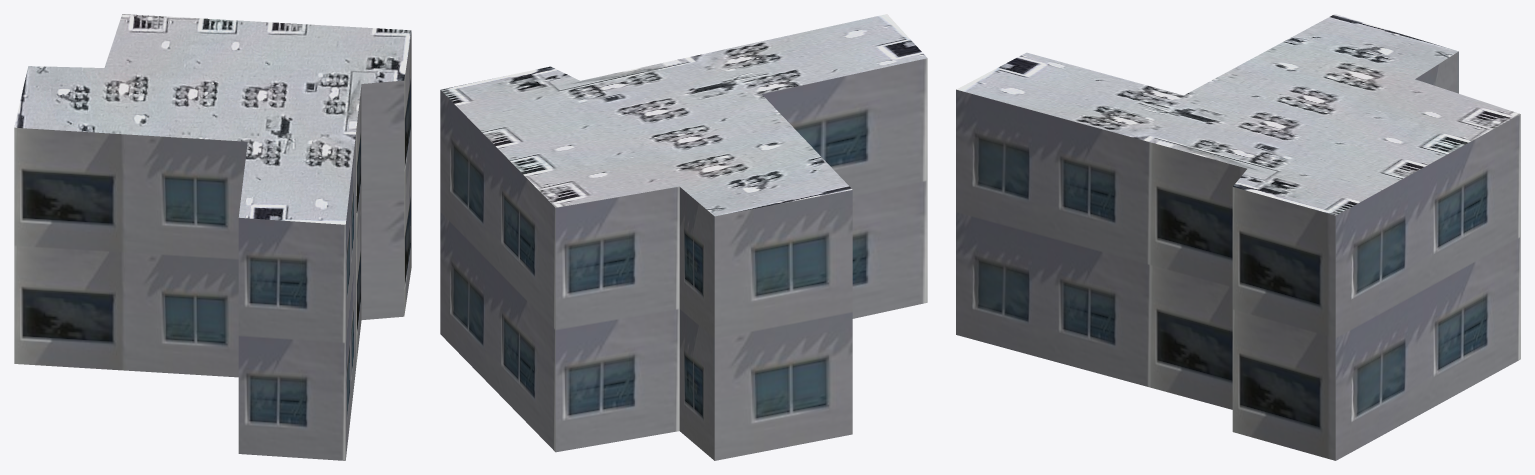
The model's file is ResTex__5227.fbx.
3 renders of one model, left to right at view 1: azimuth 30°, elevation 25°; view 2: azimuth 150°, elevation 25°; view 3: azimuth 270°, elevation 25°, orthographic. The views are drawn at different scales.
Visible parts, largest first — view 1: CityEngineMaterial_10_m, CityEngineMaterial_m; view 2: CityEngineMaterial_10_m, CityEngineMaterial_m; view 3: CityEngineMaterial_10_m, CityEngineMaterial_m.
Part boxes in pixels (x1=…): CityEngineMaterial_10_m: x1=14, y1=32, x2=411, y2=460; CityEngineMaterial_m: x1=14, y1=14, x2=411, y2=224; CityEngineMaterial_10_m: x1=440, y1=58, x2=927, y2=460; CityEngineMaterial_m: x1=440, y1=14, x2=927, y2=216; CityEngineMaterial_10_m: x1=956, y1=51, x2=1520, y2=460; CityEngineMaterial_m: x1=956, y1=14, x2=1520, y2=215.
Size of the model in its own units: 10.58 by 6 by 12.52.
Materials: 2 (2 with a texture image).
